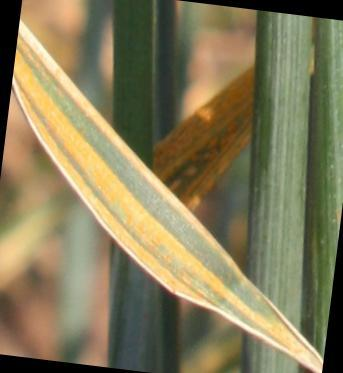Wheat: (20, 88, 230, 304)
